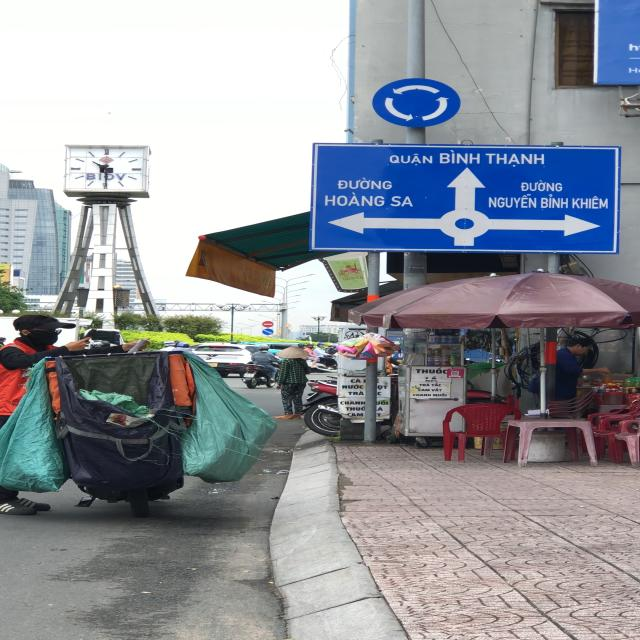Bien bao noi giao nhau chay theo vong xuyen: (365, 76, 475, 130)
